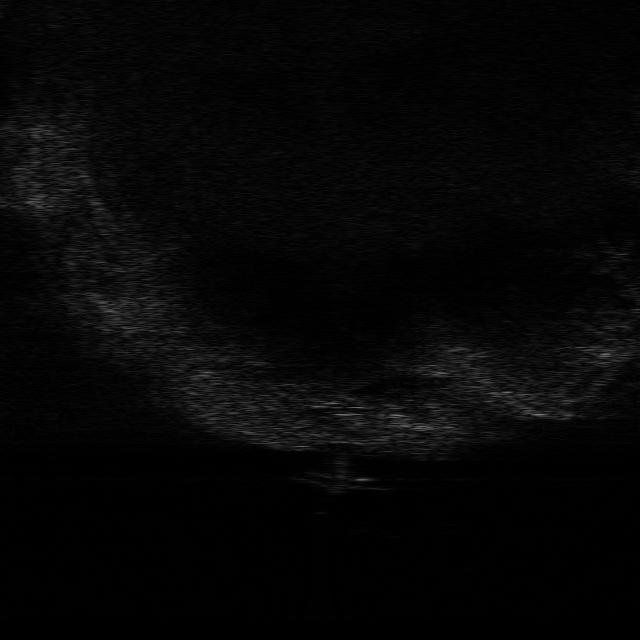plane: (291, 458, 390, 496)
